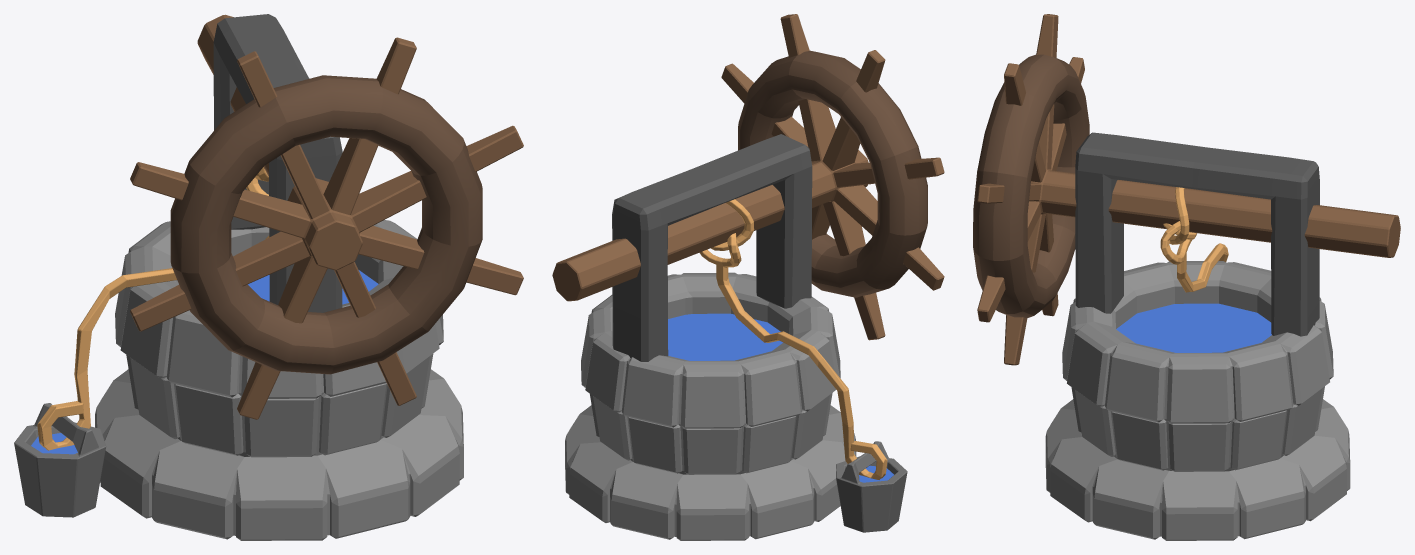
File: env-water-well.fbx
The picture shows the model from 3 angles, left to right: view 1: azimuth 30°, elevation 25°; view 2: azimuth 150°, elevation 25°; view 3: azimuth 270°, elevation 25°; orthographic projection. The views are drawn at different scales.
Visible parts, largest first — view 1: water-well.001; view 2: water-well.001; view 3: water-well.001.
Part boxes in pixels (box(x1,y1,x2,y2)): water-well.001: box(14, 14, 523, 540); water-well.001: box(552, 14, 944, 540); water-well.001: box(973, 14, 1400, 540).
Bounding box in the file's own units: 324 × 384 × 356.
